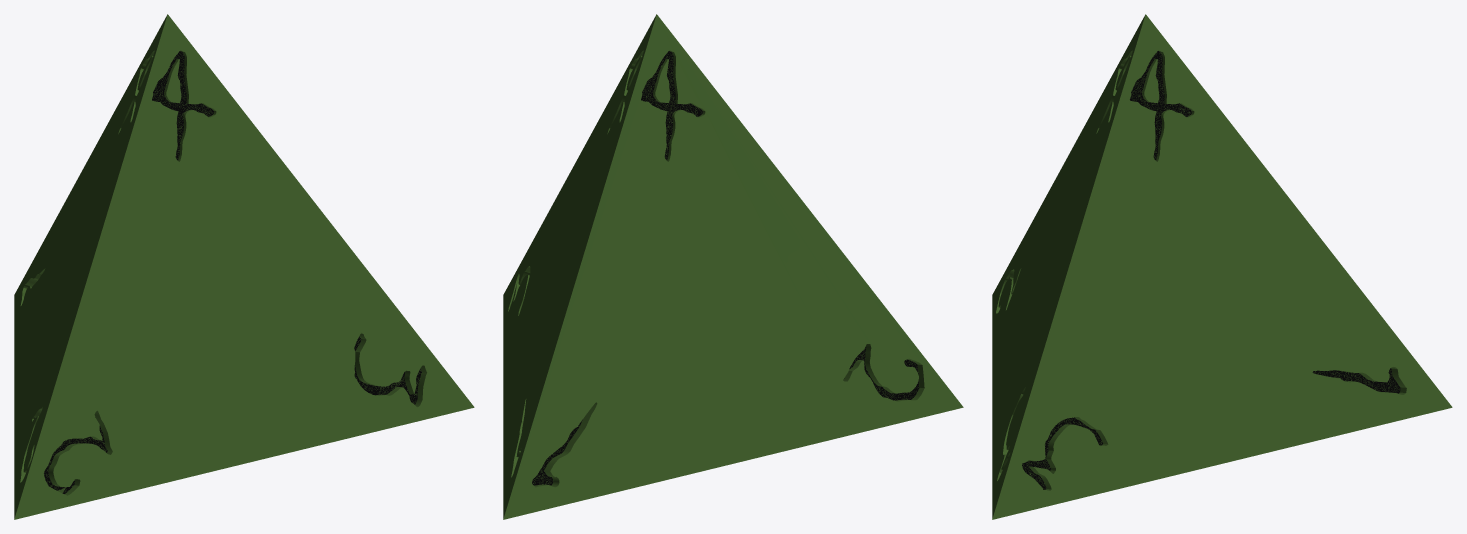
The model's file is dice_4.dae.
The picture shows the model from 3 angles, left to right: view 1: azimuth 30°, elevation 25°; view 2: azimuth 150°, elevation 25°; view 3: azimuth 270°, elevation 25°; orthographic projection.
Visible parts, largest first — view 1: group_0 (×6); view 2: group_0 (×3); view 3: group_0 (×5).
Boxes of the visible parts, <box> form: group_0 (×6): <box>14,14,474,519</box>; group_0 (×3): <box>503,14,963,519</box>; group_0 (×5): <box>992,14,1452,519</box>.
Size of the model in its own units: 78.74 by 68.19 by 64.3.
